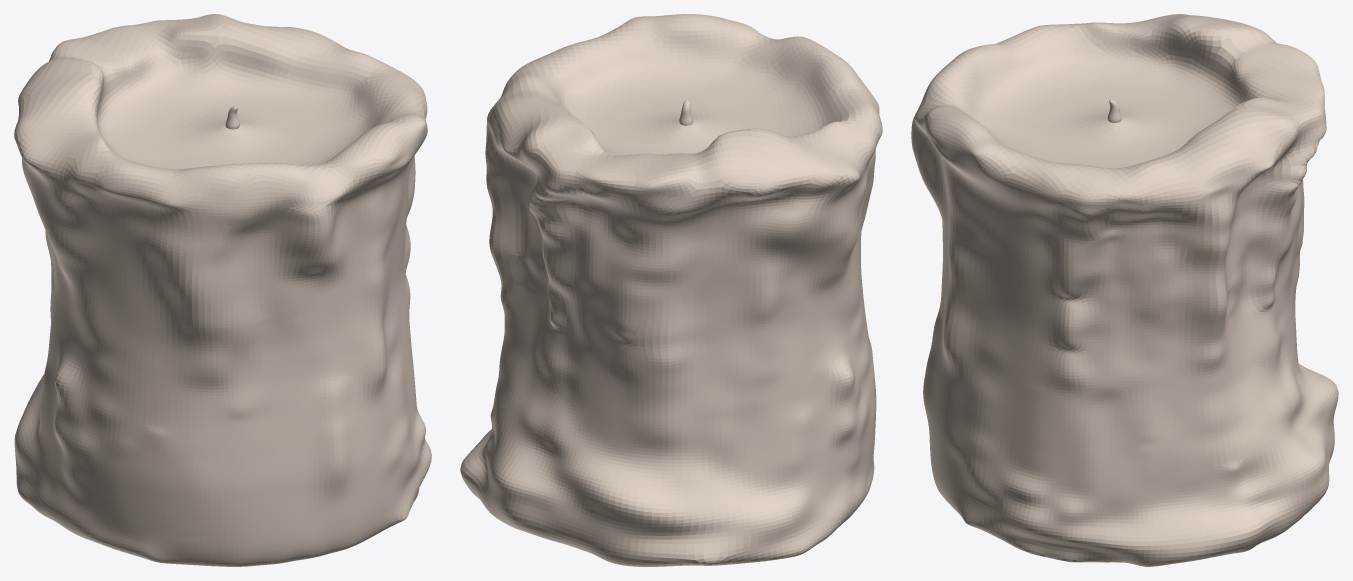
The model's file is Candle_3.fbx.
3 views of the same model, side by side, from view 1: azimuth 30°, elevation 25°; view 2: azimuth 150°, elevation 25°; view 3: azimuth 270°, elevation 25° (orthographic).
Visible parts, largest first — view 1: Candle.001; view 2: Candle.001; view 3: Candle.001.
Part boxes in pixels (x1,y1,x2,y2): Candle.001: (14,14,431,566); Candle.001: (460,14,882,566); Candle.001: (911,14,1338,566).
Bounding box in the file's own units: 40.55 × 43.9 × 40.89.
